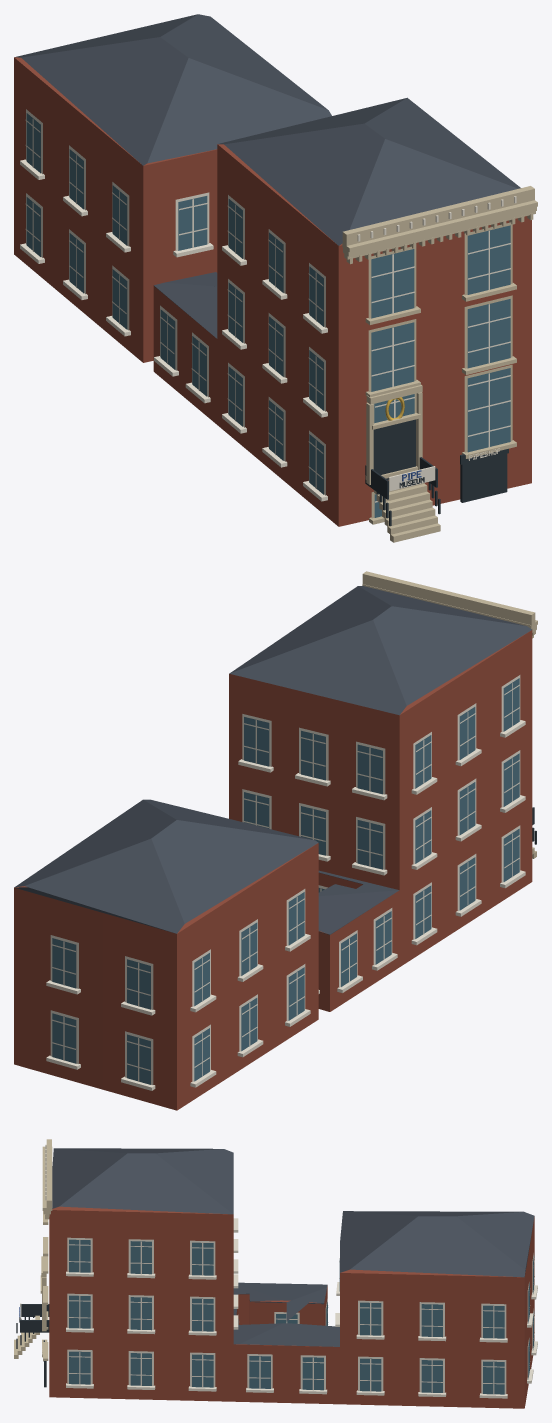
The model's file is amsterdam-pipe-museum.glb.
3 views of the same model, one above another, from view 1: azimuth 30°, elevation 25°; view 2: azimuth 150°, elevation 25°; view 3: azimuth 270°, elevation 25° (orthographic). The views are drawn at different scales.
Visible parts, largest first — view 1: amsterdam-pipe-museum; view 2: amsterdam-pipe-museum; view 3: amsterdam-pipe-museum.
Boxes of the visible parts, x1,y1,x2,y2 form: amsterdam-pipe-museum: [14, 14, 537, 542]; amsterdam-pipe-museum: [14, 571, 537, 1110]; amsterdam-pipe-museum: [14, 1139, 537, 1408].
Size of the model in its own units: 11.71 by 15.4 by 33.96.
